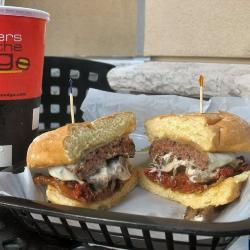burger: (137, 106, 250, 212), (30, 114, 141, 212)
